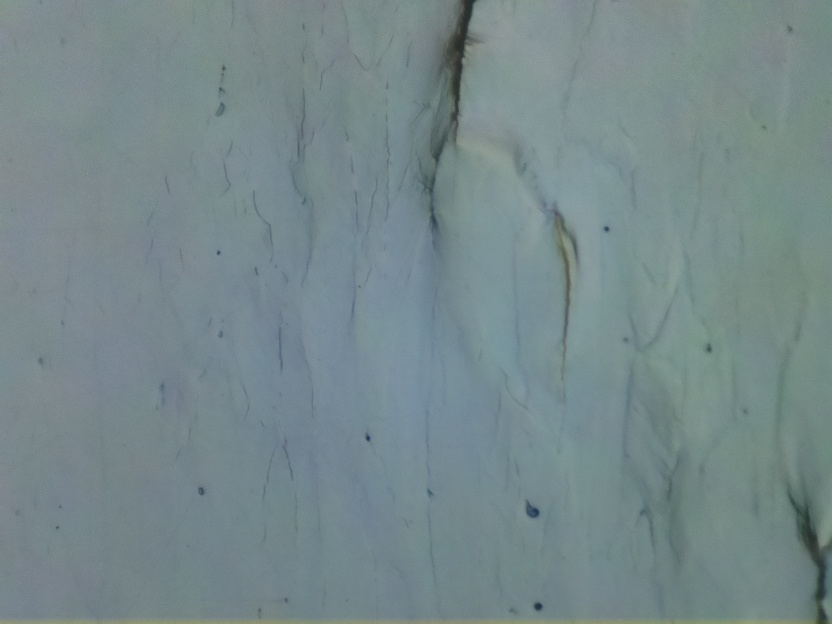crack: (421, 0, 481, 222), (781, 489, 832, 624)
